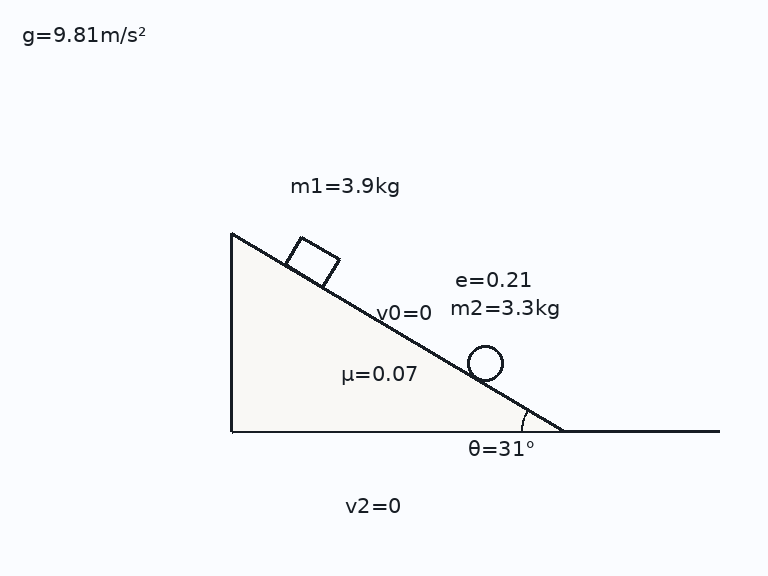ball: (465, 343, 505, 383)
block: (283, 235, 341, 289)
ramp: (229, 230, 564, 433)
